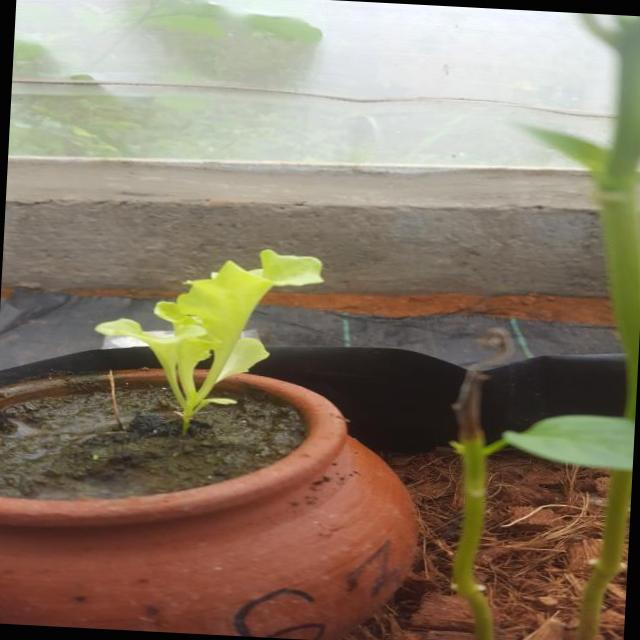Lettuce-Not-Ready-to-Harvest: (87, 229, 332, 436)
